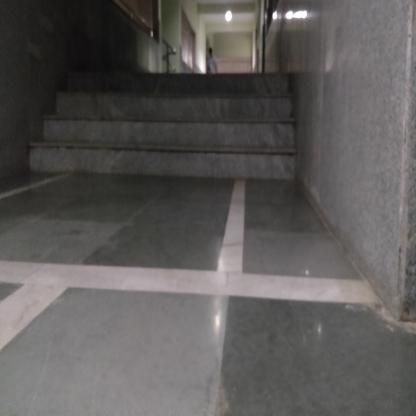stairs: (75, 68, 286, 194)
